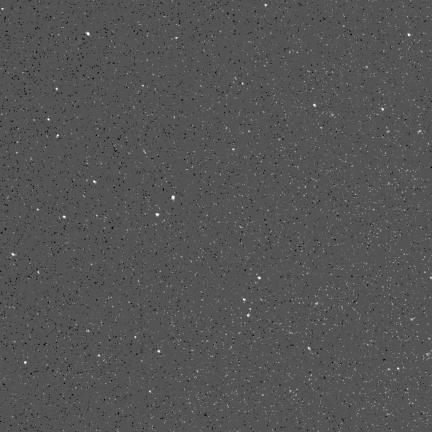blob: (171, 195, 175, 200), (47, 118, 51, 122), (93, 180, 97, 184), (86, 32, 90, 36), (156, 213, 160, 217), (408, 33, 411, 37), (314, 104, 317, 108), (63, 216, 67, 219), (25, 361, 28, 365), (258, 277, 262, 280), (158, 350, 161, 354), (381, 108, 385, 111), (56, 88, 59, 91)
